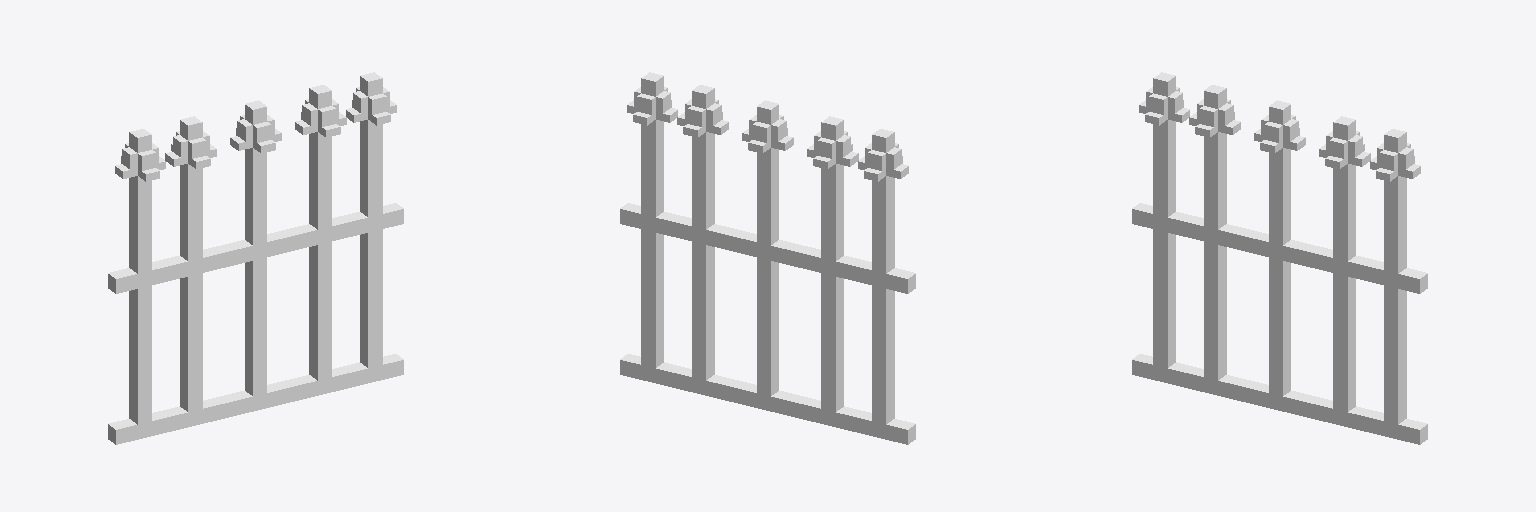
File: TopFencesMiddle.obj
3 views of the same model, side by side, from view 1: azimuth 30°, elevation 25°; view 2: azimuth 150°, elevation 25°; view 3: azimuth 330°, elevation 25° (orthographic).
Visible parts, largest first — view 1: object 1; view 2: object 1; view 3: object 1.
Part boxes in pixels (left/top/right/bottom): object 1: left=108, top=72, right=403, bottom=444; object 1: left=620, top=72, right=915, bottom=444; object 1: left=1132, top=72, right=1427, bottom=444.
Size of the model in its own units: 4 by 4 by 0.6.